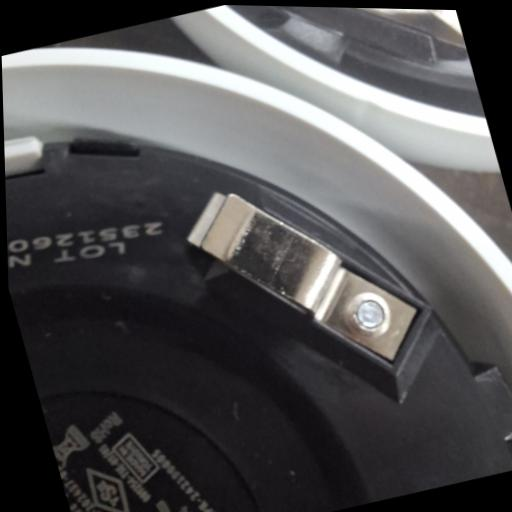yayli: (175, 153, 432, 403)
